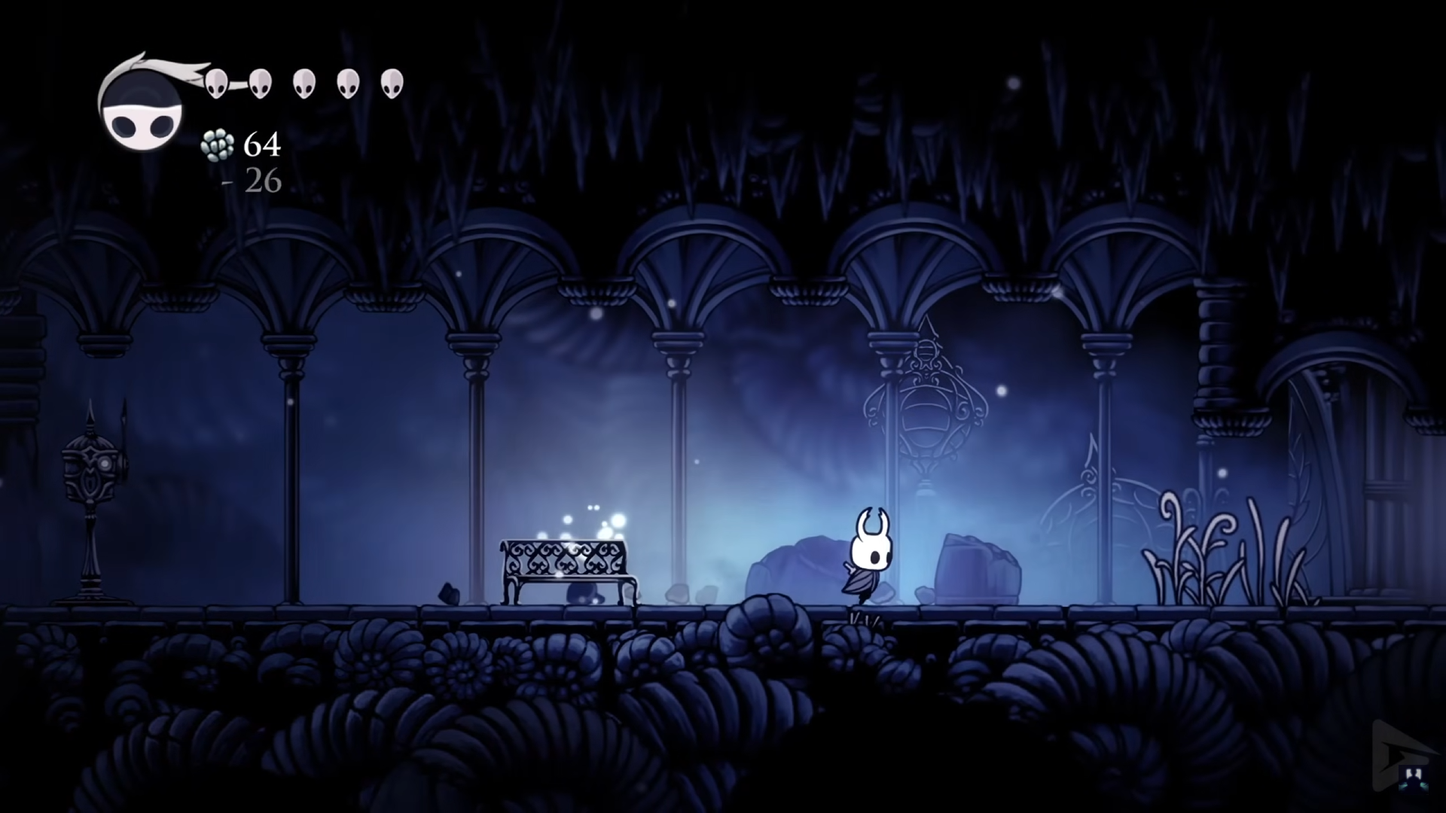HK: (839, 507, 895, 610)
